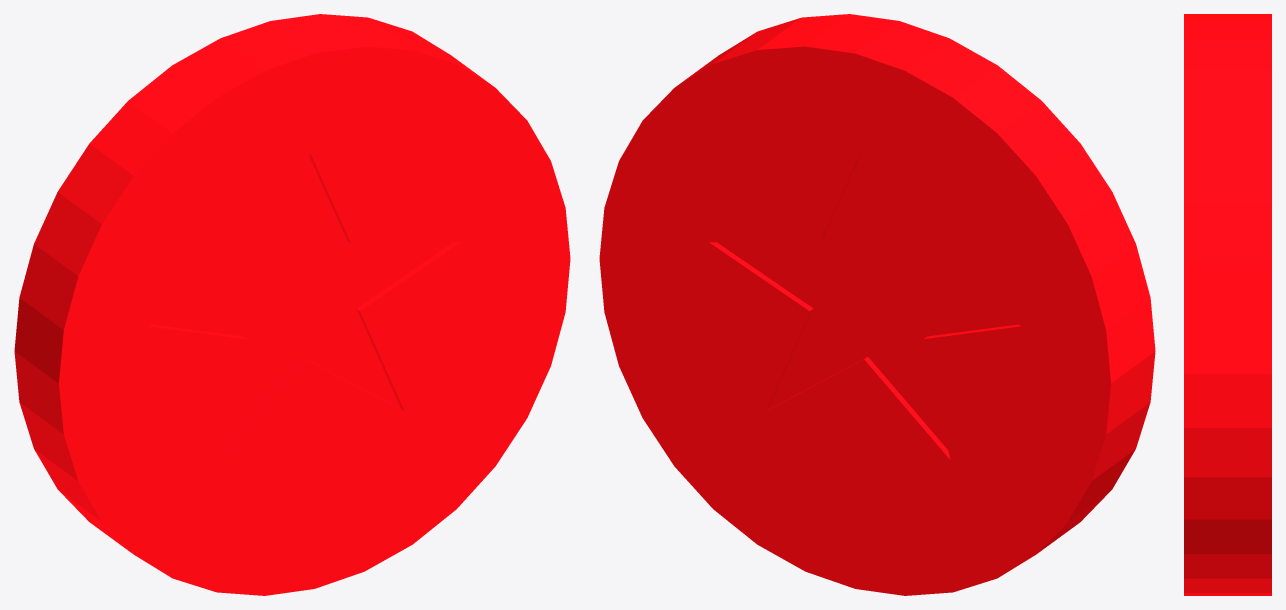
The model's file is redcoin.glb.
The picture shows the model from 3 angles, left to right: view 1: azimuth 30°, elevation 25°; view 2: azimuth 150°, elevation 25°; view 3: azimuth 270°, elevation 25°; orthographic projection.
Visible parts, largest first — view 1: redcoin; view 2: redcoin; view 3: redcoin.
Part boxes in pixels (x1,y1,x2,y2): redcoin: [14, 14, 570, 595]; redcoin: [599, 14, 1155, 595]; redcoin: [1184, 14, 1271, 595].
Size of the model in its own units: 0.7816 by 0.7816 by 0.1176.
